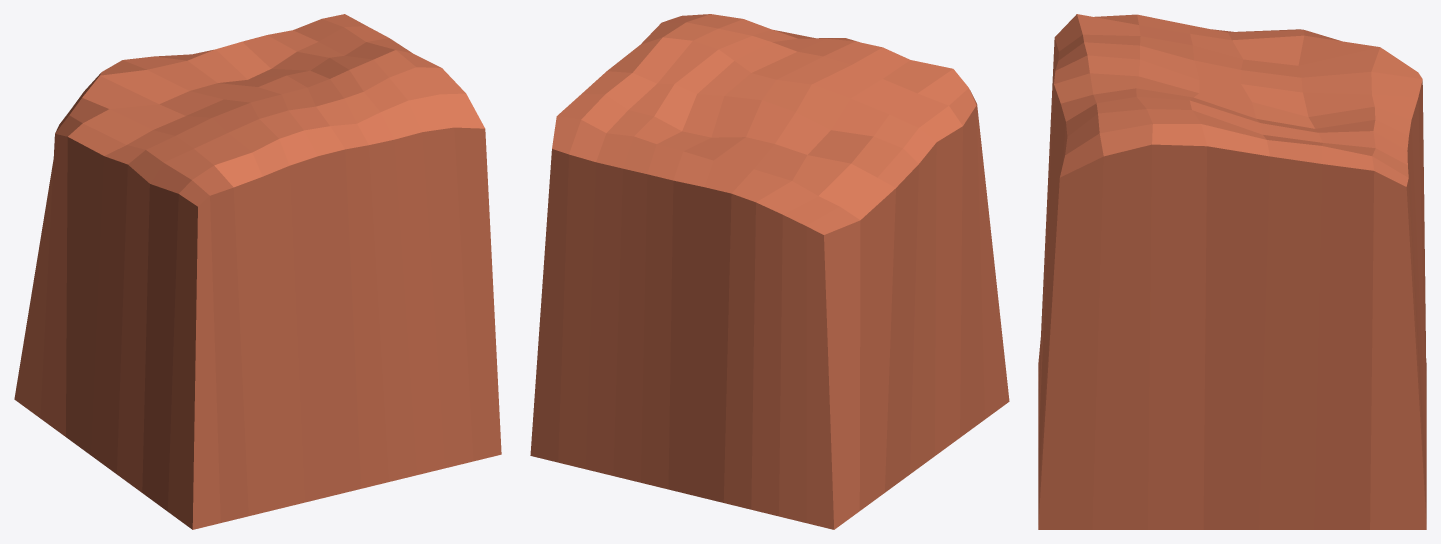
3 views of the same model, side by side, from view 1: azimuth 30°, elevation 25°; view 2: azimuth 150°, elevation 25°; view 3: azimuth 270°, elevation 25° (orthographic). The views are drawn at different scales.
Parts seen in each view (by area): view 1: Cube.003; view 2: Cube.003; view 3: Cube.003.
Part boxes in pixels (<box>): Cube.003: <box>14,14,501,529</box>; Cube.003: <box>530,14,1009,529</box>; Cube.003: <box>1038,14,1426,529</box>.
Size of the model in its own units: 2.03 by 2.21 by 2.
